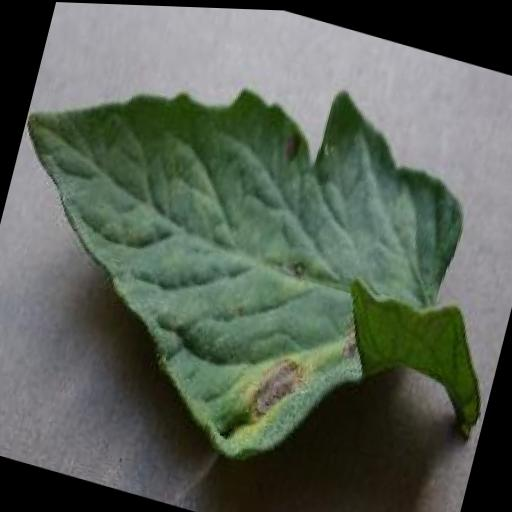Early Blight: (0, 5, 512, 512)
